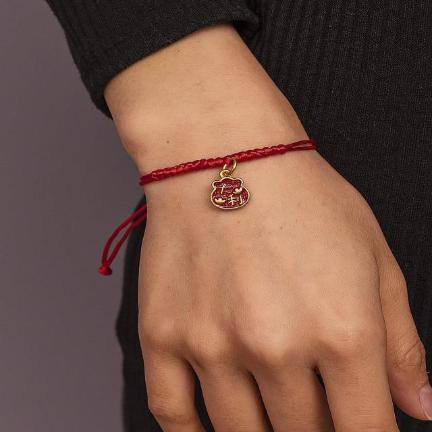Nail: (419, 385, 431, 418)
